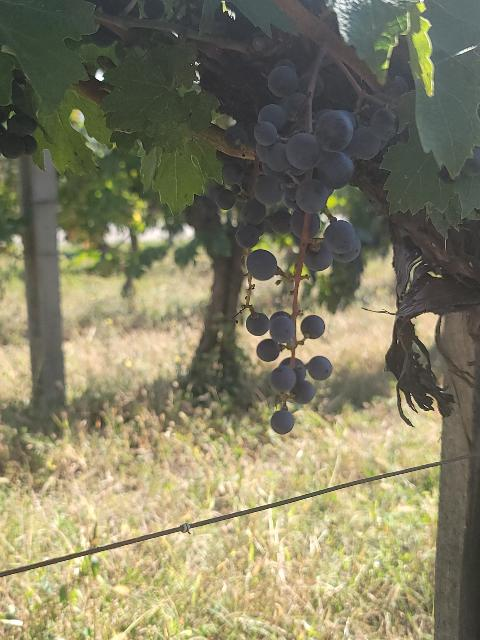grapes: (216, 50, 398, 434), (219, 64, 399, 290)
